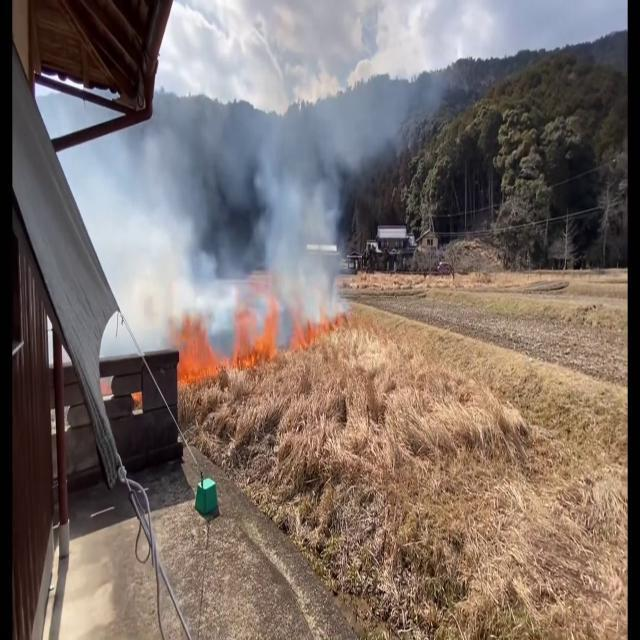Fire: (166, 294, 279, 401), (264, 300, 369, 356)
Smoke: (160, 51, 359, 356)
